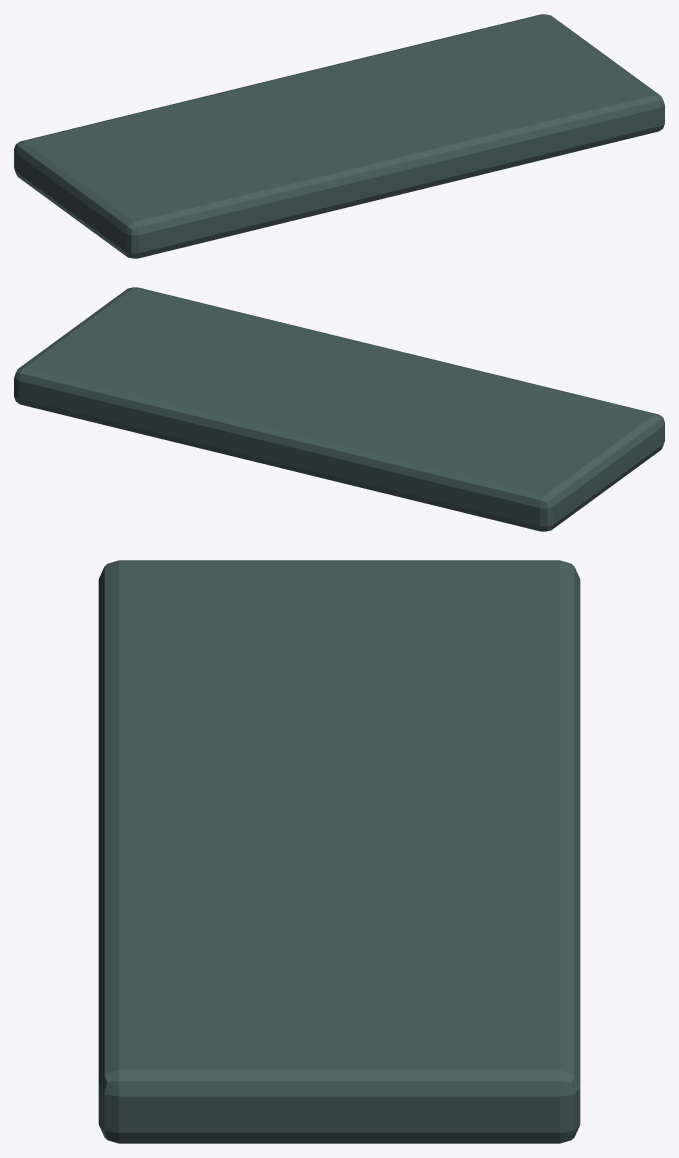
The model's file is PFSLIDE.fbx.
3 renders of one model, top to bottom at view 1: azimuth 30°, elevation 25°; view 2: azimuth 150°, elevation 25°; view 3: azimuth 270°, elevation 25°, orthographic. The views are drawn at different scales.
Visible parts, largest first — view 1: Cube; view 2: Cube; view 3: Cube.
Part boxes in pixels (left/top/right/bottom): Cube: left=14, top=14, right=664, bottom=258; Cube: left=14, top=287, right=664, bottom=531; Cube: left=98, top=560, right=580, bottom=1143.
Size of the model in its own units: 1112 by 72.13 by 431.
